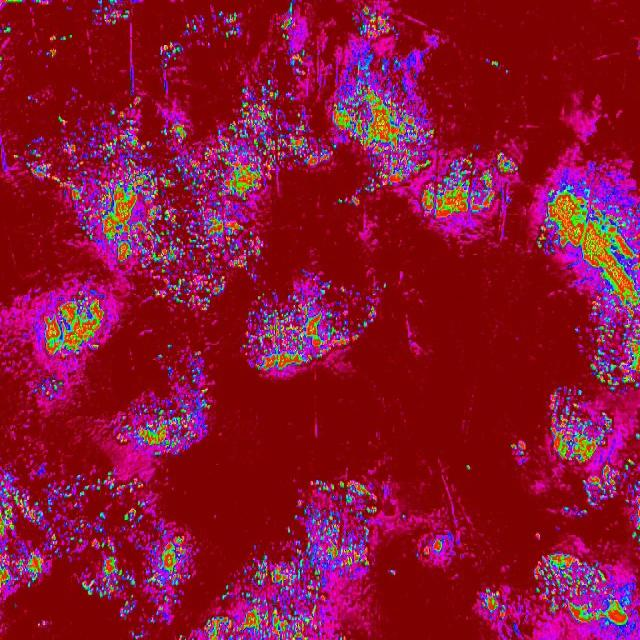fire: (60, 99, 265, 315), (0, 470, 195, 604), (317, 37, 438, 198), (246, 284, 392, 395), (286, 479, 386, 640), (542, 167, 640, 295), (542, 392, 630, 517), (521, 552, 640, 640), (192, 555, 288, 640), (421, 159, 522, 229), (39, 280, 116, 369), (258, 84, 330, 176), (118, 391, 210, 459), (582, 295, 638, 386)
